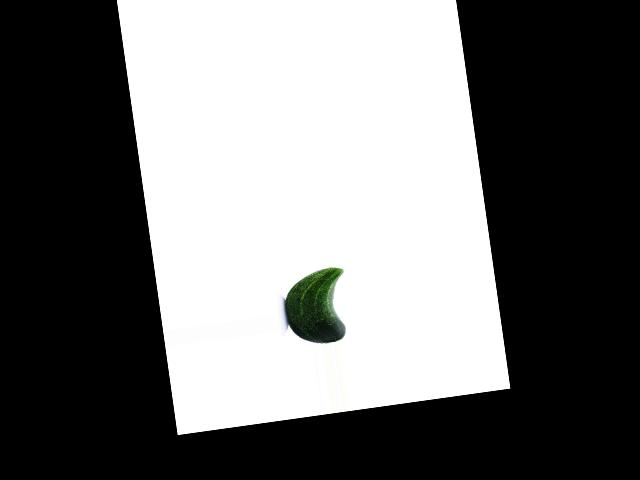cucumber: (280, 265, 352, 348)
